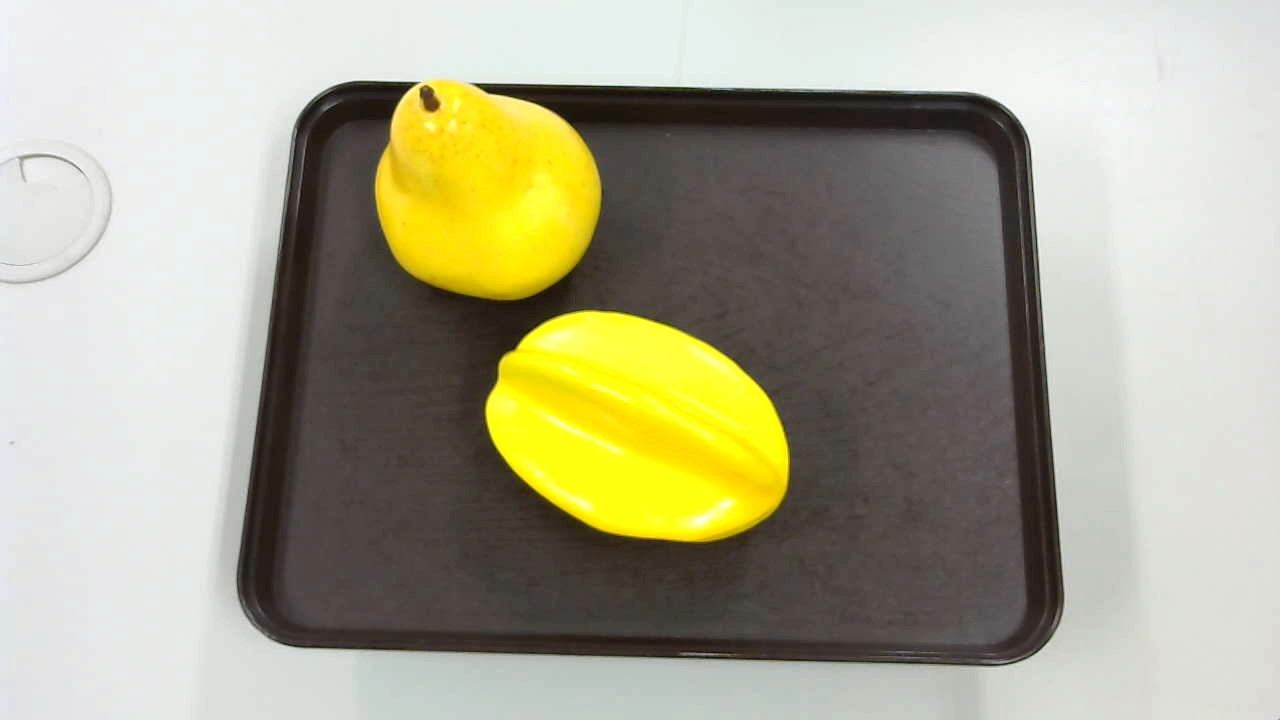star fruit: (479, 307, 793, 546)
yellow pear: (363, 67, 609, 305)
